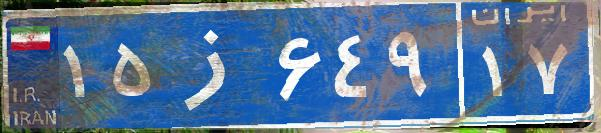1: (57, 26, 110, 107), (475, 38, 525, 113)
4: (330, 28, 385, 110)
5: (110, 28, 158, 105)
6: (273, 28, 330, 110)
7: (525, 38, 570, 115)
9: (385, 28, 445, 110)
ز: (158, 15, 273, 115)
